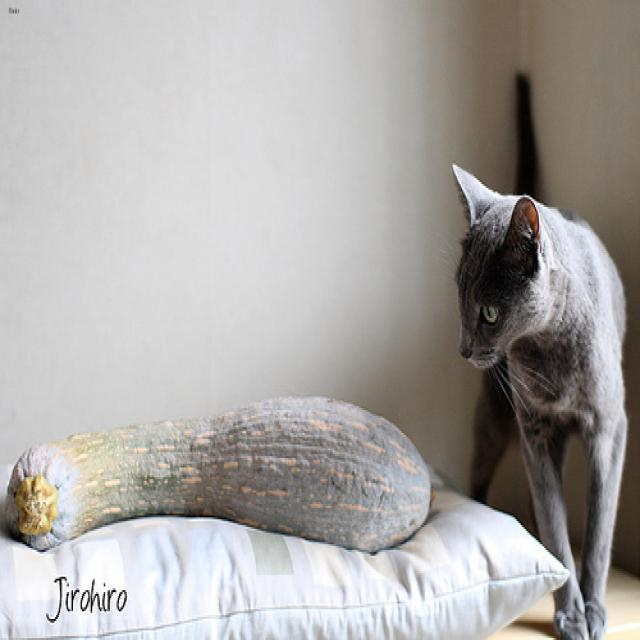Russian_Blue: (450, 159, 557, 377)
